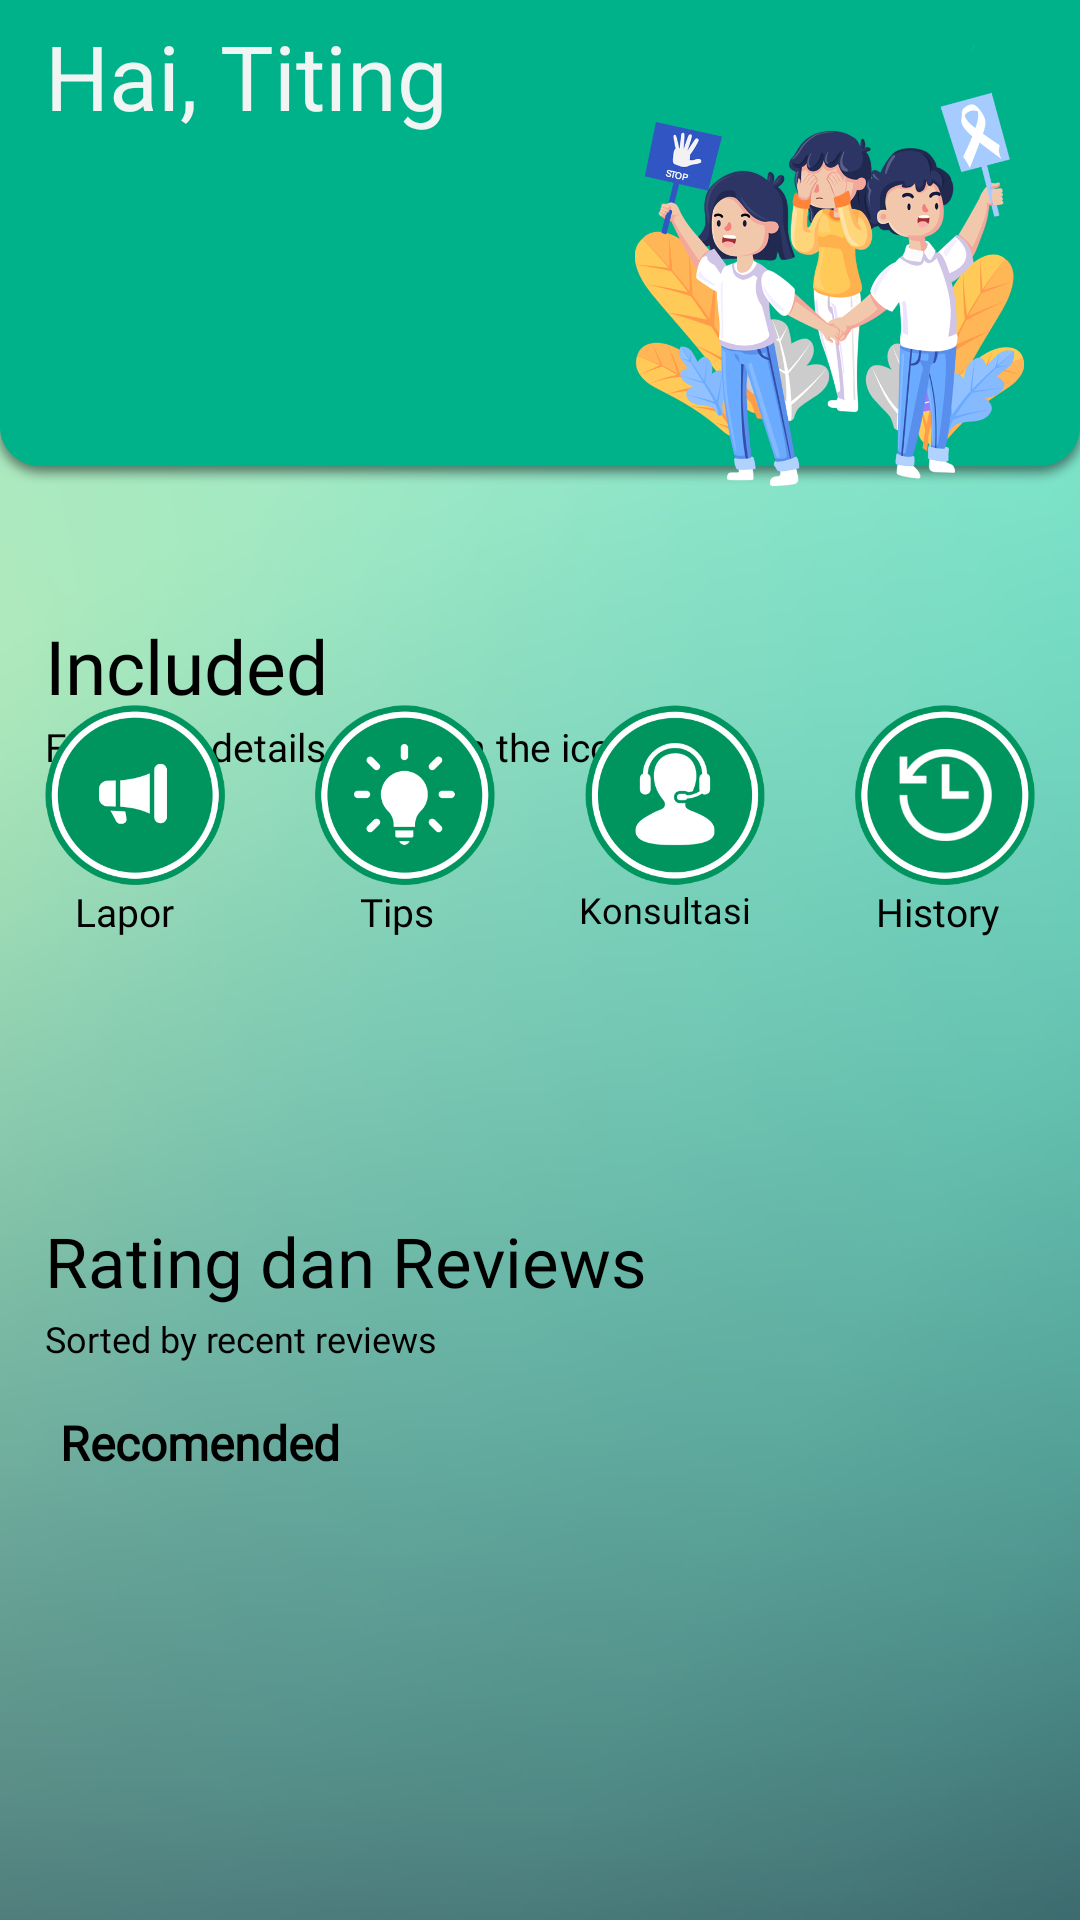

Named icons in this screenshot (1080w x 1920h) and their centers, (x=x, y=y):
customer: (x=675, y=795)
idea: (x=405, y=795)
megaphone: (x=135, y=795)
